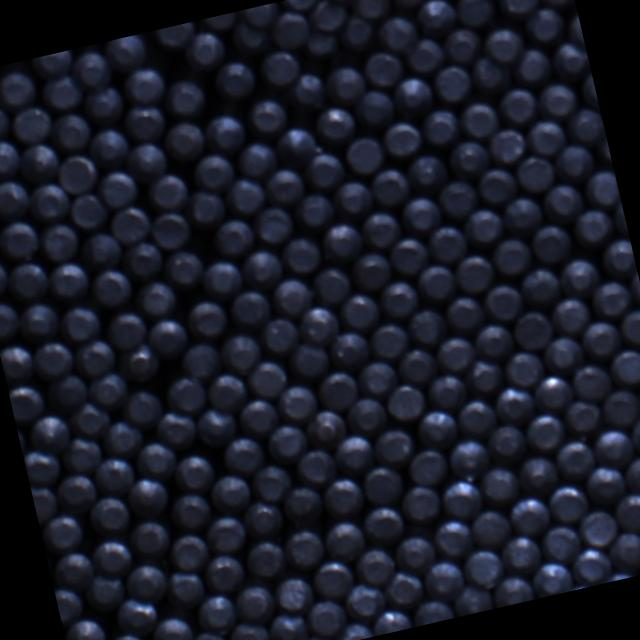tool: (320, 62, 370, 110), (200, 106, 250, 154), (22, 408, 72, 456), (418, 555, 467, 603), (217, 328, 264, 378), (120, 559, 170, 606), (112, 335, 162, 382), (319, 516, 367, 564), (387, 74, 435, 122), (205, 468, 253, 516), (88, 534, 136, 582), (123, 472, 171, 520), (402, 150, 450, 198), (270, 122, 320, 168), (294, 301, 342, 348), (300, 405, 348, 452), (160, 116, 208, 163), (466, 51, 514, 98), (329, 430, 376, 478), (266, 272, 314, 319), (211, 57, 259, 104), (318, 473, 366, 520), (350, 85, 398, 132), (114, 592, 162, 639), (180, 27, 228, 74), (162, 73, 210, 120), (144, 314, 191, 361), (278, 482, 325, 529), (360, 462, 408, 508), (370, 424, 418, 470), (312, 366, 360, 412), (280, 524, 326, 572), (340, 578, 388, 624), (52, 469, 100, 515), (262, 420, 310, 466), (339, 131, 387, 177), (188, 149, 236, 195), (200, 550, 248, 596), (358, 502, 406, 548), (300, 149, 348, 195), (316, 218, 364, 264), (508, 42, 556, 88), (443, 134, 491, 180), (516, 264, 562, 311), (503, 492, 550, 538), (460, 546, 506, 593), (345, 248, 392, 294), (233, 394, 280, 440), (590, 425, 636, 472), (349, 544, 396, 590), (374, 8, 421, 54), (491, 382, 537, 429), (498, 192, 545, 238), (310, 556, 357, 602), (192, 401, 238, 448), (538, 180, 585, 226), (163, 370, 210, 416), (184, 294, 231, 340), (444, 436, 490, 483), (312, 102, 359, 148), (170, 450, 217, 496), (120, 62, 167, 108), (198, 254, 245, 300), (153, 406, 200, 452), (239, 246, 286, 292), (242, 356, 290, 401), (202, 512, 250, 557), (260, 164, 308, 209), (56, 432, 104, 477), (72, 335, 120, 380), (390, 531, 438, 576), (509, 306, 555, 352), (54, 150, 100, 196), (545, 480, 591, 526), (232, 582, 278, 628), (484, 122, 530, 168), (496, 532, 542, 578), (576, 316, 622, 362), (468, 504, 514, 550), (51, 546, 97, 592), (476, 462, 522, 508), (334, 288, 380, 334), (582, 463, 628, 509), (548, 140, 594, 186), (460, 204, 506, 250), (428, 514, 474, 560), (220, 433, 266, 479), (496, 82, 542, 128), (412, 406, 458, 452), (222, 172, 268, 218), (536, 521, 582, 567), (456, 96, 502, 142), (433, 175, 479, 221), (397, 192, 443, 238), (556, 252, 602, 298), (124, 138, 170, 184), (86, 124, 132, 170), (203, 368, 250, 413), (90, 454, 137, 499), (195, 591, 240, 638), (132, 438, 179, 483), (522, 116, 570, 160), (264, 8, 312, 52), (360, 46, 408, 90), (226, 286, 274, 330), (82, 572, 130, 616), (99, 416, 147, 460), (528, 221, 574, 266), (550, 437, 596, 482), (367, 163, 412, 209), (274, 381, 320, 426), (561, 103, 606, 149), (374, 276, 420, 321), (438, 476, 483, 522), (468, 319, 514, 364), (357, 206, 402, 252), (417, 104, 462, 150), (398, 482, 443, 528), (587, 276, 633, 321), (89, 264, 134, 310), (451, 394, 496, 440), (166, 528, 212, 573), (513, 452, 558, 498), (68, 396, 114, 441), (240, 496, 286, 541), (27, 178, 72, 224), (102, 306, 148, 351), (68, 44, 114, 89), (247, 461, 294, 505), (256, 45, 303, 89), (209, 214, 256, 258), (3, 258, 50, 302), (124, 99, 171, 143), (549, 36, 592, 84), (568, 360, 613, 405), (450, 251, 495, 296), (307, 263, 352, 308), (548, 292, 592, 338), (428, 61, 474, 105), (248, 202, 294, 246), (421, 222, 467, 266), (511, 150, 557, 194), (538, 332, 584, 376), (379, 568, 425, 612), (107, 202, 153, 246), (352, 357, 398, 401), (474, 162, 520, 206), (380, 116, 426, 160), (520, 4, 566, 48), (520, 410, 566, 454), (414, 260, 458, 306), (242, 536, 288, 580), (167, 488, 213, 532), (184, 184, 228, 230), (284, 339, 330, 383), (342, 393, 388, 437), (30, 336, 76, 380), (326, 328, 372, 372), (567, 206, 613, 250), (121, 386, 167, 430), (270, 571, 316, 615), (232, 136, 278, 180), (128, 516, 174, 560), (245, 94, 291, 138), (86, 492, 132, 536), (334, 13, 380, 57), (228, 13, 274, 57), (146, 168, 192, 212), (458, 356, 504, 400), (38, 70, 84, 114), (82, 83, 129, 126), (382, 380, 427, 424), (442, 293, 486, 338), (279, 233, 324, 277), (529, 370, 574, 414), (393, 345, 438, 389), (304, 595, 349, 639), (441, 24, 486, 68), (568, 544, 613, 588), (46, 257, 91, 301), (479, 282, 524, 326), (328, 177, 373, 221), (17, 297, 62, 341), (482, 22, 528, 65), (39, 511, 85, 554), (401, 33, 447, 76), (535, 76, 581, 119), (290, 189, 336, 232), (57, 301, 103, 344), (86, 367, 132, 410), (490, 233, 534, 277), (574, 506, 618, 550), (258, 314, 302, 358), (386, 234, 430, 278), (404, 306, 448, 350), (96, 165, 140, 209), (10, 102, 54, 146), (432, 333, 476, 377), (294, 446, 338, 490), (482, 422, 526, 466), (18, 140, 62, 184), (50, 108, 94, 152), (82, 228, 126, 272), (500, 346, 545, 389), (404, 446, 449, 489), (134, 276, 180, 318), (413, 0, 460, 41), (148, 207, 192, 250), (178, 338, 222, 381), (424, 370, 468, 413), (562, 397, 606, 440), (38, 219, 82, 262), (163, 245, 207, 288), (165, 566, 208, 610), (366, 320, 411, 362), (0, 217, 42, 262), (46, 370, 91, 412), (580, 166, 622, 210), (598, 386, 640, 430), (286, 68, 328, 112), (528, 558, 573, 599), (104, 32, 150, 72), (598, 235, 638, 280), (0, 66, 39, 111), (6, 379, 46, 422), (22, 444, 62, 487), (604, 528, 640, 575), (67, 189, 108, 230), (448, 582, 493, 618), (0, 338, 36, 383), (489, 572, 533, 608), (605, 345, 640, 390), (0, 176, 33, 222), (264, 608, 311, 640), (305, 0, 350, 33), (32, 48, 77, 80), (153, 20, 200, 50), (149, 611, 197, 640), (452, 0, 498, 30), (408, 596, 452, 627), (611, 490, 640, 535), (53, 582, 84, 624), (368, 605, 410, 636), (303, 24, 339, 60), (62, 613, 109, 640), (30, 480, 60, 522), (238, 2, 283, 30), (225, 616, 273, 640), (615, 305, 640, 348), (346, 0, 396, 21), (0, 297, 23, 341), (608, 196, 630, 241), (0, 136, 22, 180), (195, 11, 238, 33), (578, 68, 600, 111), (619, 452, 640, 497), (494, 0, 540, 20), (329, 619, 371, 640), (563, 5, 584, 46), (625, 265, 640, 311), (183, 626, 230, 640), (596, 568, 636, 584), (279, 0, 322, 13), (0, 255, 12, 299), (0, 99, 12, 142), (104, 629, 150, 640), (385, 0, 431, 11), (629, 412, 640, 455), (533, 0, 575, 11), (293, 631, 334, 640), (318, 0, 362, 5)
